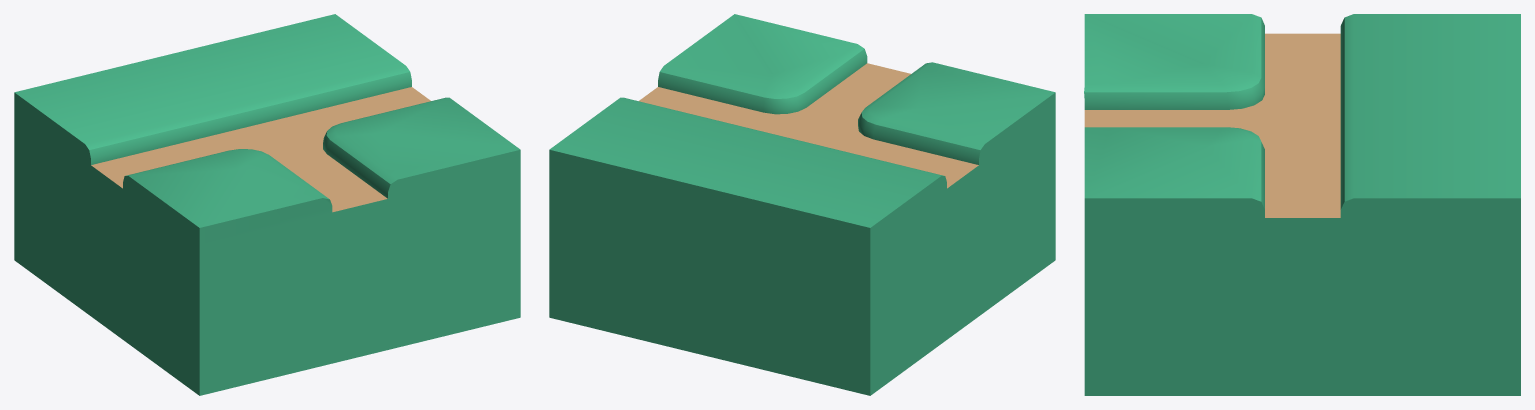
File: kaykit-square-forest-roadd.glb
3 views of the same model, side by side, from view 1: azimuth 30°, elevation 25°; view 2: azimuth 150°, elevation 25°; view 3: azimuth 270°, elevation 25° (orthographic). The views are drawn at different scales.
Parts seen in each view (by area): view 1: square_forest_roadD; view 2: square_forest_roadD; view 3: square_forest_roadD.
Part boxes in pixels (x1,y1,x2,y2): square_forest_roadD: [14, 14, 520, 395]; square_forest_roadD: [549, 14, 1055, 395]; square_forest_roadD: [1084, 14, 1520, 395].
Size of the model in its own units: 2 by 1 by 2.
